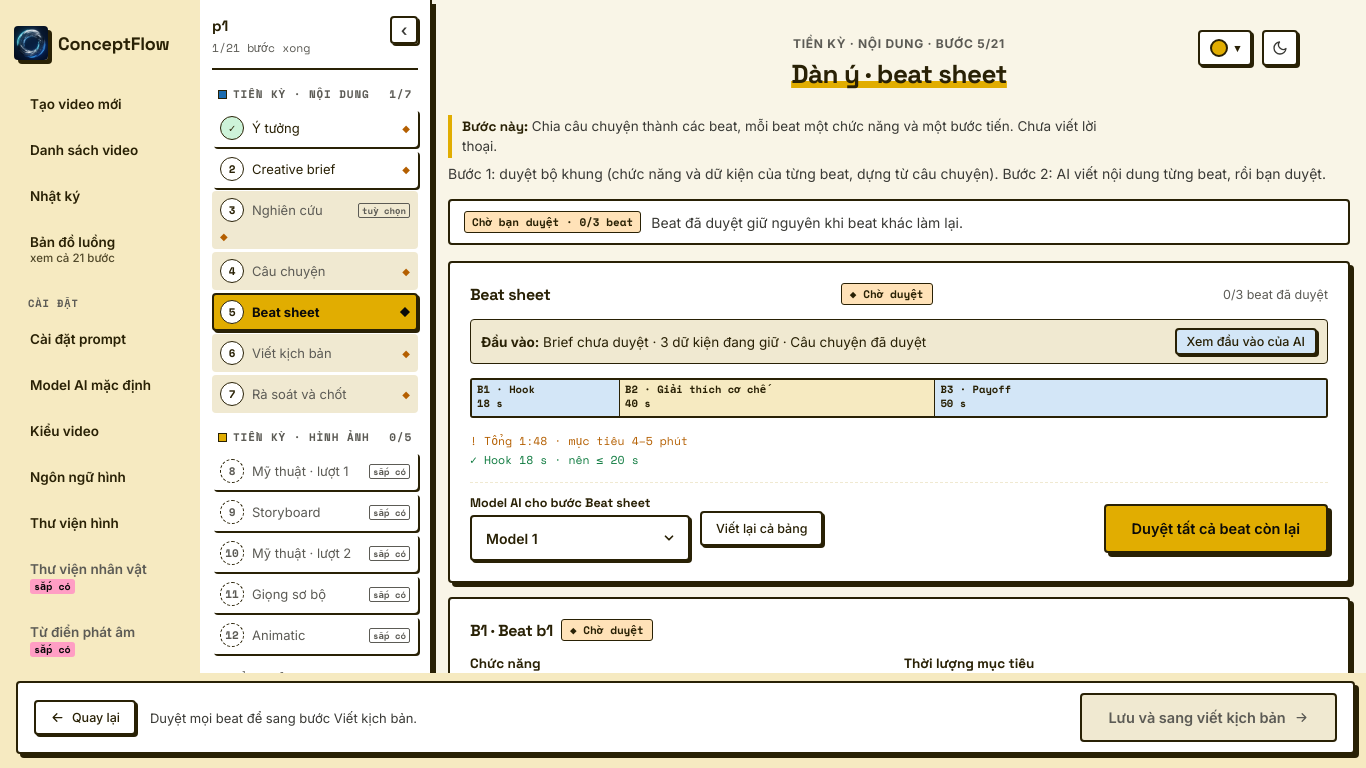
Scenario: BeatsStepPage › says the brief is not approved when the input has none
This screenshot has width=1366, height=768.
Expected: the element with test id "beats-sheet-card" is shown, [448, 261, 1350, 583]
Click the button with test id "beats-input-open": (1246, 342) [1175, 328, 1317, 355]
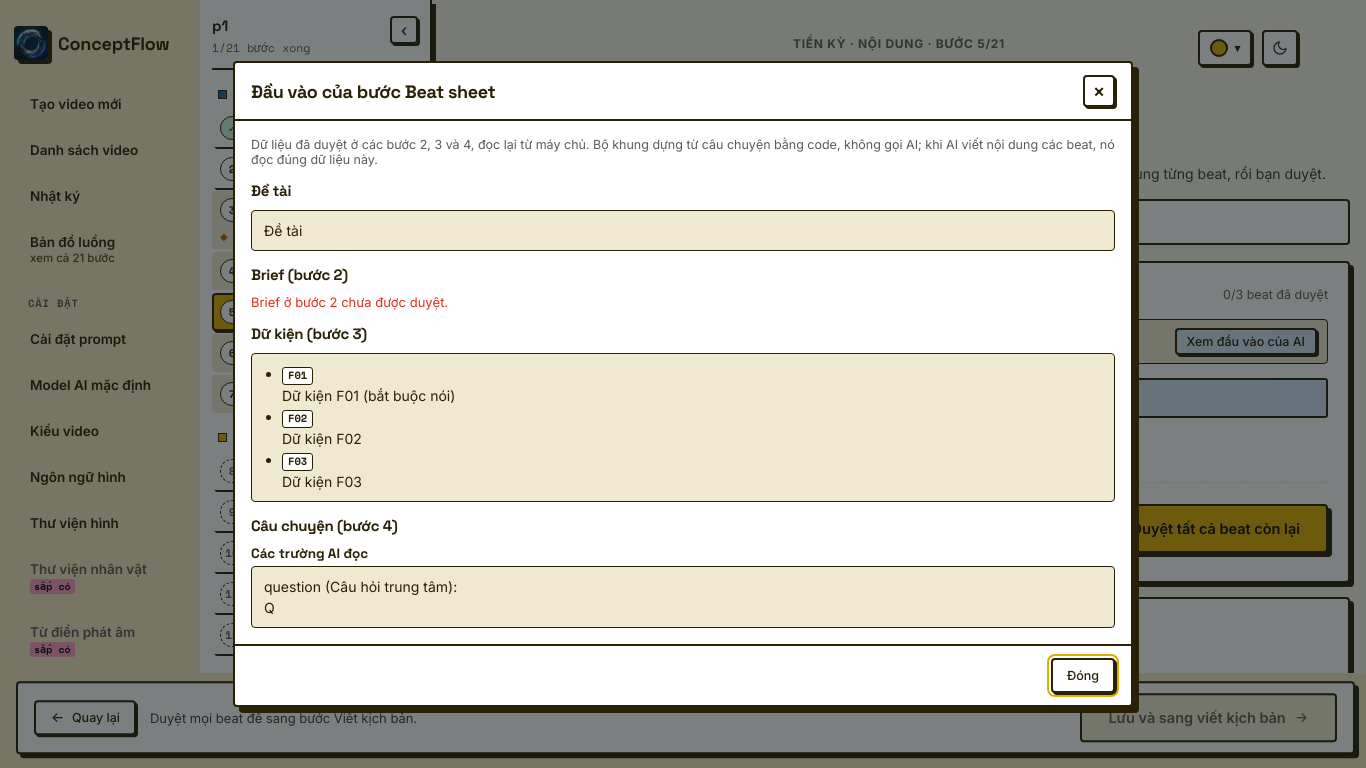
Expected: the message "Brief ở bước 2 chưa được duyệt." is shown, [251, 294, 448, 310]
